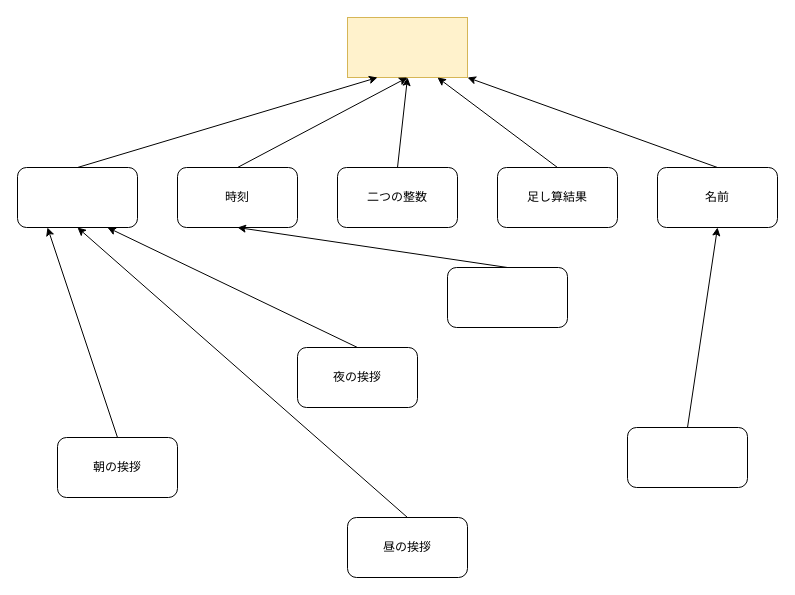
Image size: 795x595. Some labels were removed from this diagram. The centre of each missing label's shape, as x and y in pixels:
Robd og: point 407,47
名前の変更: point 687,457
挨拶: point 77,197
挨拶する時間: point 507,297
